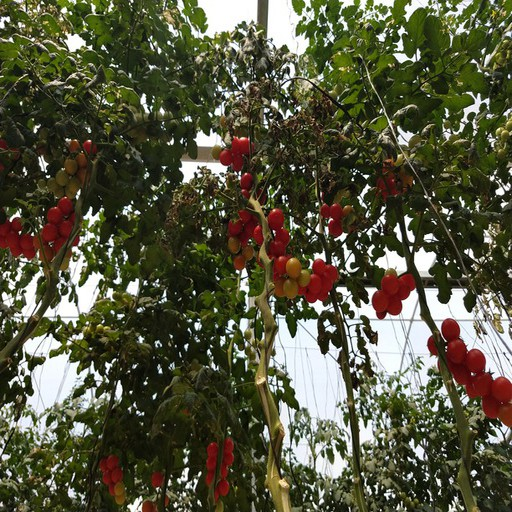dry leaves: (217, 38, 349, 168), (161, 172, 227, 238)
mixed tomato bunch: (35, 140, 95, 201), (100, 455, 128, 505)
red tomato bunch: (428, 319, 512, 432), (257, 207, 338, 302), (226, 173, 269, 269), (33, 197, 80, 270), (373, 273, 415, 316), (206, 438, 233, 501), (1, 217, 40, 259), (219, 134, 252, 170), (374, 164, 404, 198), (142, 472, 167, 512)
